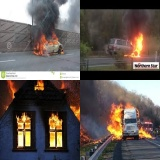fire: (107, 103, 156, 141), (33, 30, 64, 55), (80, 118, 104, 145), (16, 112, 32, 147), (126, 33, 145, 59), (49, 113, 63, 148), (5, 80, 16, 98), (70, 104, 79, 122), (33, 80, 45, 92), (60, 80, 66, 93), (4, 104, 9, 110)
